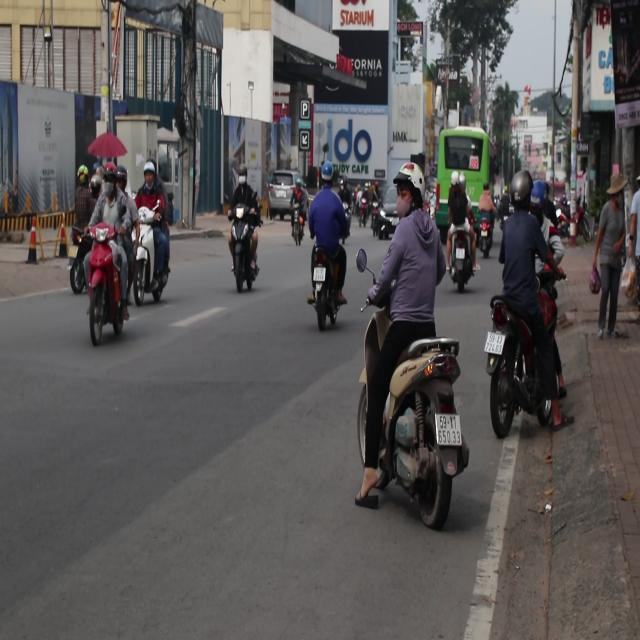bus: (440, 127, 494, 208)
car: (267, 169, 307, 217), (373, 206, 399, 242)
motorbike: (362, 334, 448, 505), (484, 312, 563, 432), (82, 234, 133, 358), (135, 215, 182, 312), (225, 227, 277, 312), (306, 256, 353, 346), (447, 222, 479, 293), (292, 203, 312, 253), (481, 227, 499, 271)
